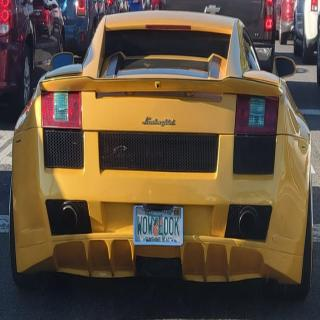license: (134, 206, 185, 247)
